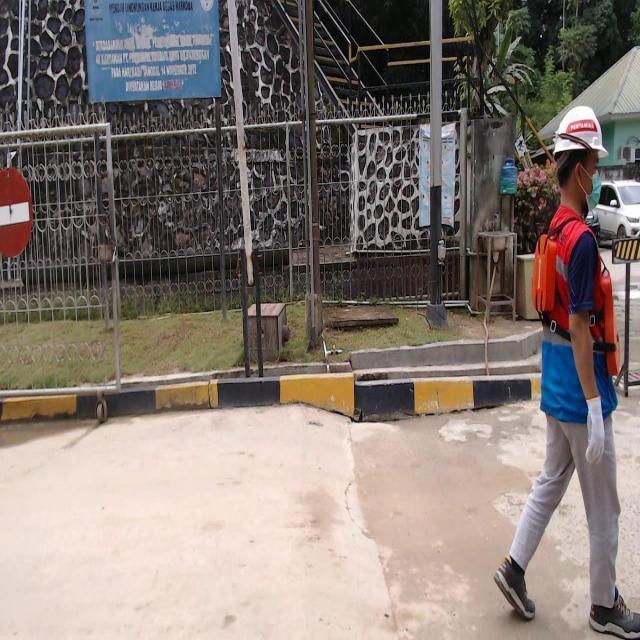Vest: (532, 233, 622, 382)
